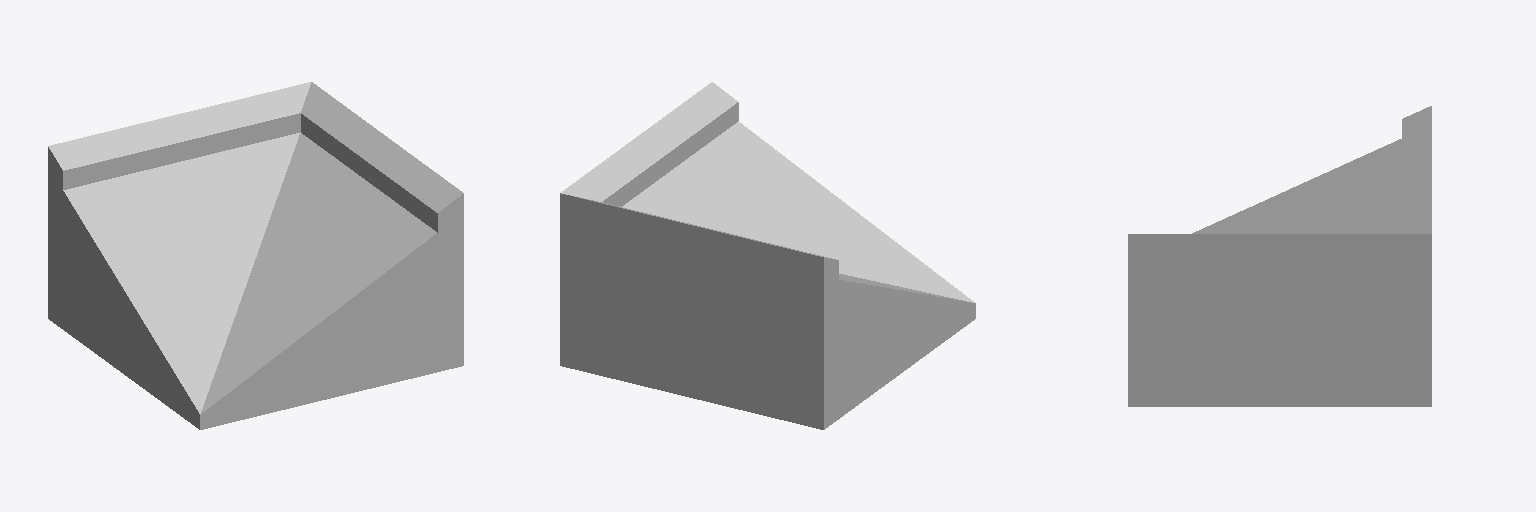
The model's file is roof-corner-inner.obj.
The picture shows the model from 3 angles: view 1: azimuth 30°, elevation 25°; view 2: azimuth 150°, elevation 25°; view 3: azimuth 270°, elevation 25°; orthographic projection.
Visible parts, largest first — view 1: roof-corner-inner; view 2: roof-corner-inner; view 3: roof-corner-inner.
Part boxes in pixels (x1,y1,x2,y2): roof-corner-inner: (48,82,463,429); roof-corner-inner: (560,82,975,429); roof-corner-inner: (1128,106,1431,406).
Bounding box in the file's own units: 1 × 0.6259 × 1.